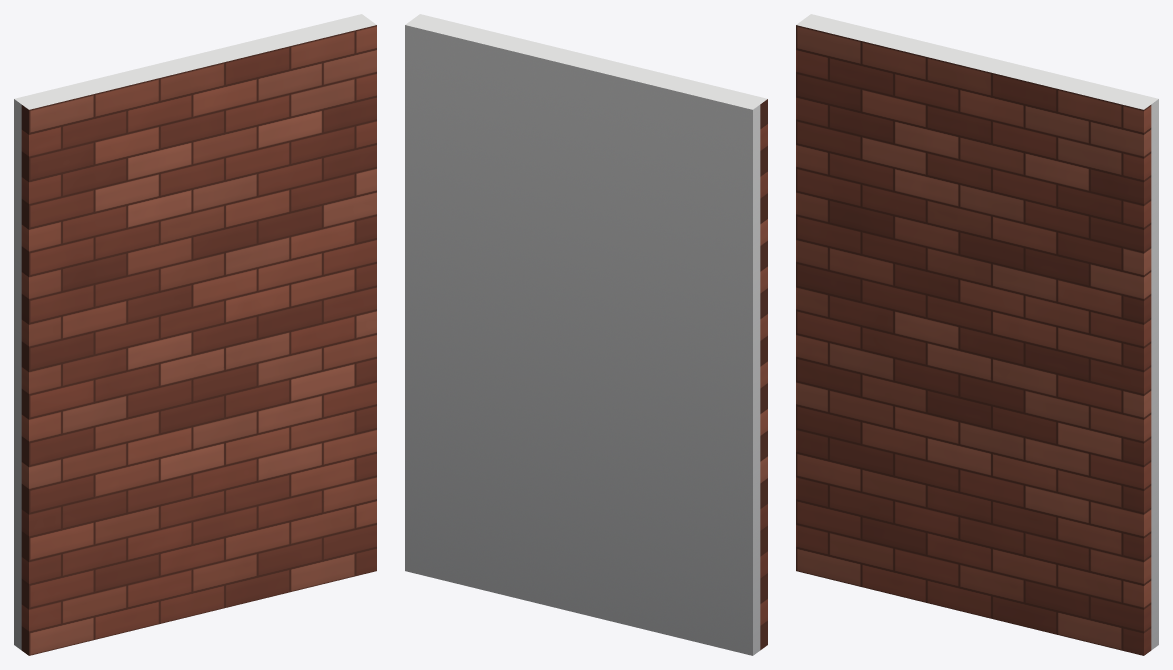
File: parede_2m.glb
The picture shows the model from 3 angles, left to right: view 1: azimuth 30°, elevation 25°; view 2: azimuth 150°, elevation 25°; view 3: azimuth 330°, elevation 25°; orthographic projection.
Parts seen in each view (by area): view 1: parede_2m; view 2: parede_2m; view 3: parede_2m.
Part boxes in pixels (left/top/right/bottom): parede_2m: left=14, top=14, right=376, bottom=655; parede_2m: left=405, top=14, right=767, bottom=655; parede_2m: left=796, top=14, right=1158, bottom=655.
Bounding box in the file's own units: 2 × 3 × 0.15.
Materials: 3 (2 with a texture image).
